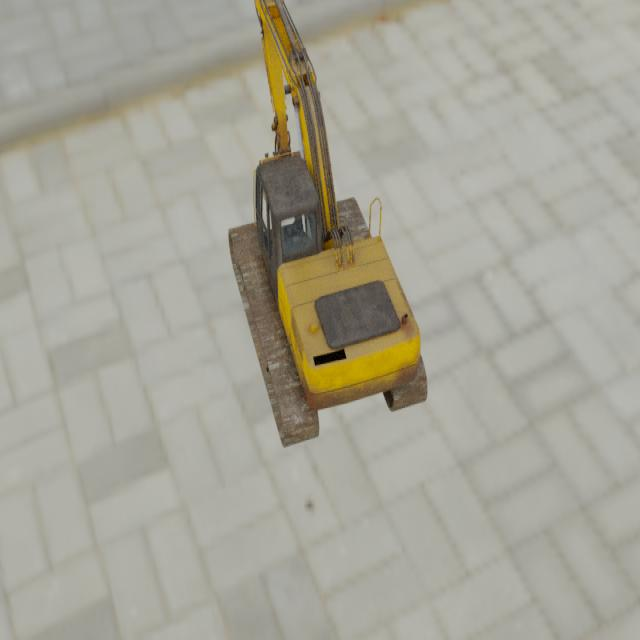excavator: (227, 0, 428, 449)
